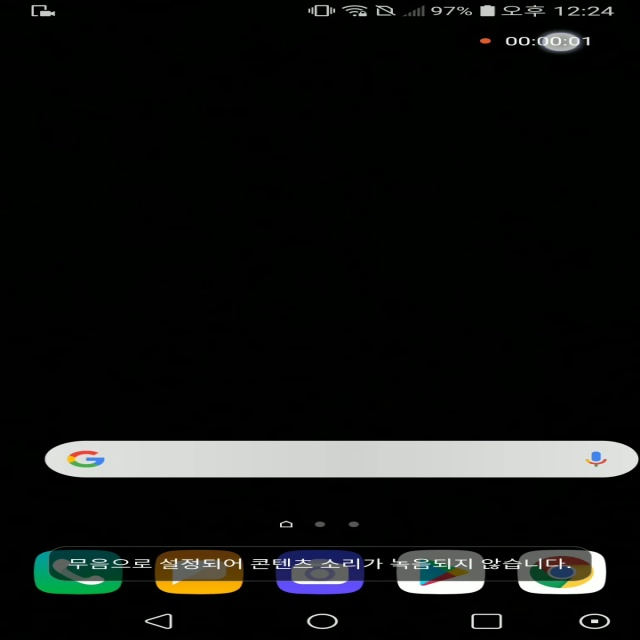Cursor: (538, 32, 583, 54)
